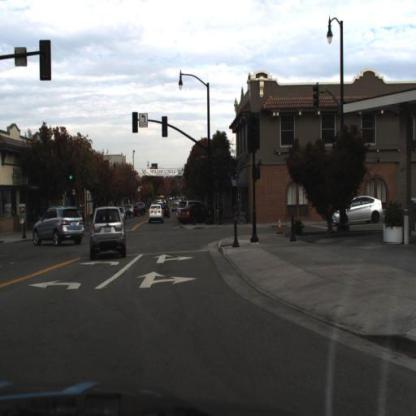car: (32, 206, 85, 246), (89, 207, 127, 258), (332, 195, 387, 230), (179, 206, 210, 224), (148, 205, 164, 225), (162, 202, 172, 218)
trafficLight-Green: (162, 118, 168, 137)
trafficLight-GreenLeft: (68, 167, 75, 188)
trafficLight-RedLeft: (133, 111, 138, 132)
